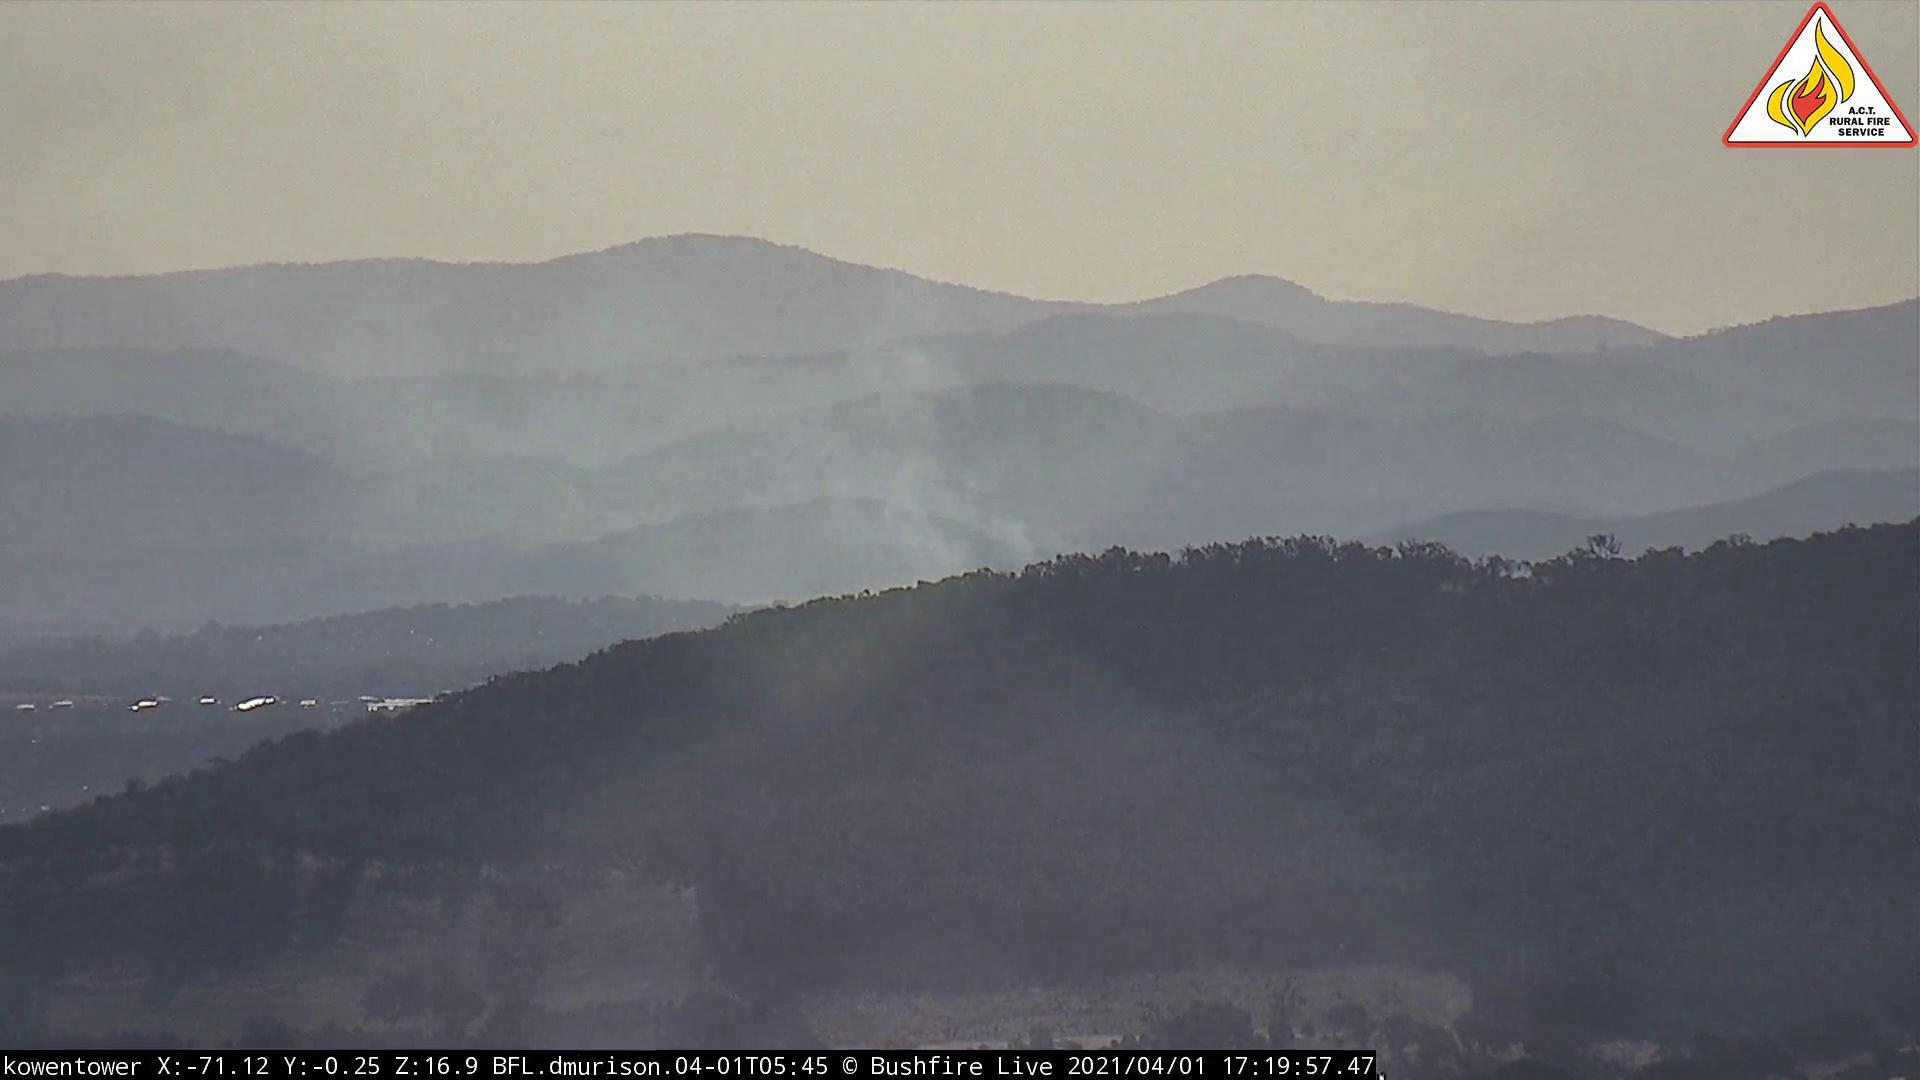Smoke: (291, 303, 1060, 642)
